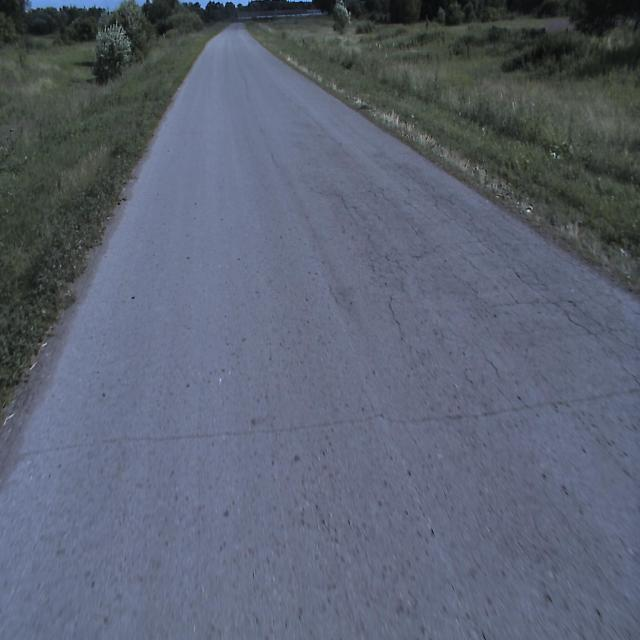road: (0, 23, 640, 639)
